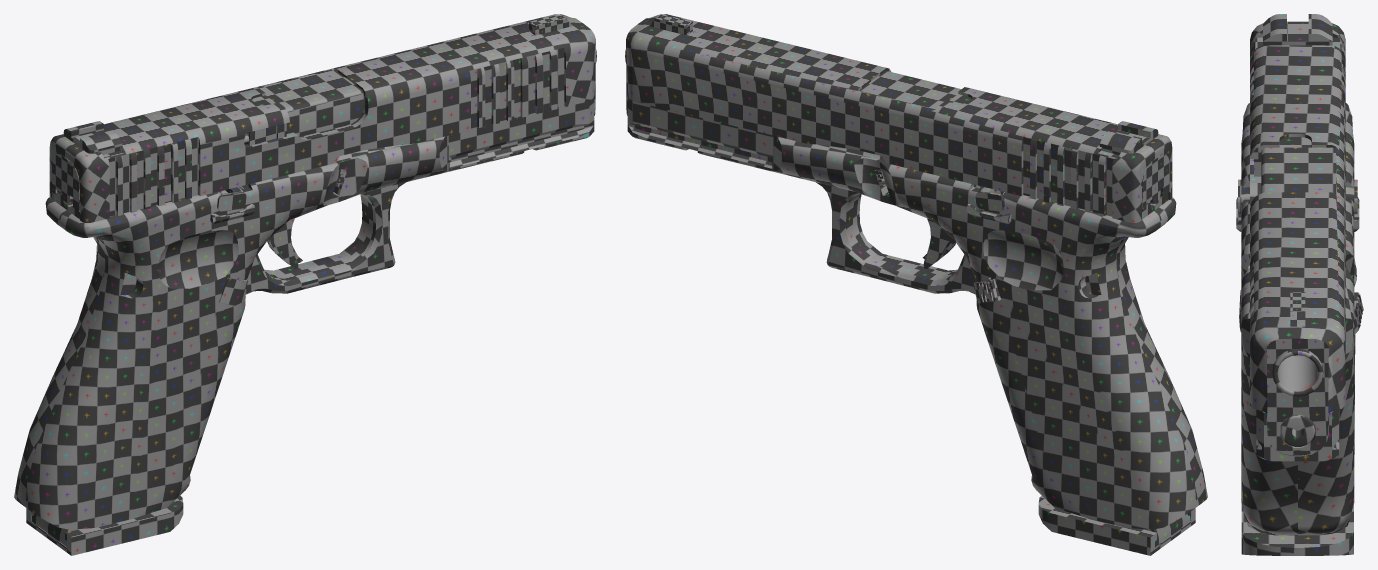
Rendered from glock17.gltf.
3 views of the same model, side by side, from view 1: azimuth 30°, elevation 25°; view 2: azimuth 150°, elevation 25°; view 3: azimuth 270°, elevation 25° (orthographic). The views are drawn at different scales.
Parts seen in each view (by area): view 1: handle_low, rail_low, muzzle_low, magazinecase_low, ironsight1_low, baseback_low, trigger_low; view 2: handle_low, rail_low, magazinecase_low, muzzle_low, ironsight1_low, baseback_low, trigger_low; view 3: rail_low, handle_low, muzzle_low, magazinecase_low, ironsight1_low, barrel_low, ironsight2_low, CC_low, b_LOW, EE_low.
Boxes of the visible parts, x1,y1,x2,y2 form: handle_low: (14, 96, 594, 529); rail_low: (49, 14, 595, 222); muzzle_low: (252, 69, 363, 136); magazinecase_low: (26, 495, 183, 555); ironsight1_low: (63, 121, 122, 154); baseback_low: (52, 154, 79, 211); trigger_low: (268, 218, 298, 268); handle_low: (627, 96, 1207, 529); rail_low: (626, 14, 1172, 222); magazinecase_low: (1038, 495, 1195, 555); muzzle_low: (859, 71, 971, 109); ironsight1_low: (1099, 121, 1158, 154); baseback_low: (1142, 154, 1169, 211); trigger_low: (923, 218, 953, 268); rail_low: (1250, 23, 1345, 455); handle_low: (1241, 103, 1356, 535); muzzle_low: (1261, 137, 1335, 193); magazinecase_low: (1241, 504, 1353, 555); ironsight1_low: (1263, 14, 1332, 45); barrel_low: (1272, 349, 1323, 396); ironsight2_low: (1290, 292, 1305, 326); CC_low: (1238, 179, 1357, 214); b_LOW: (1354, 292, 1363, 334); EE_low: (1236, 197, 1359, 231).
Size of the model in its own units: 4.98 by 3.37 by 0.784.
18 materials, 18 textured.
